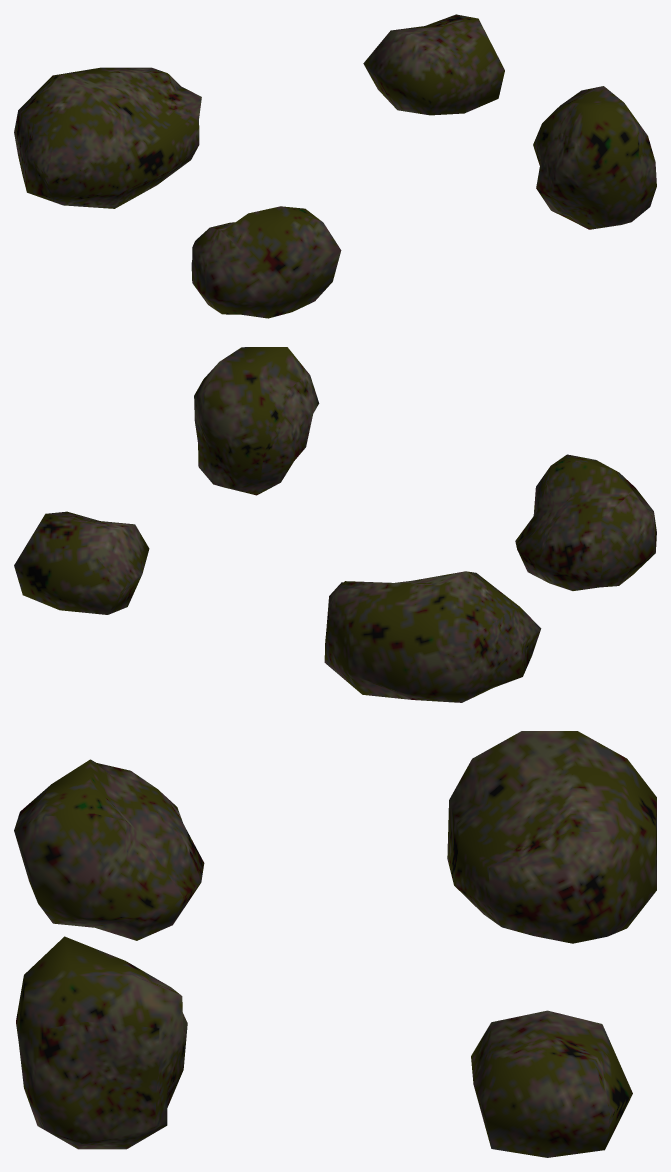
Rendered from pixel rocks.fbx.
3 renders of one model, top to bottom at view 1: azimuth 30°, elevation 25°; view 2: azimuth 150°, elevation 25°; view 3: azimuth 270°, elevation 25°, orthographic. The views are drawn at different scales.
Visible parts, largest first — view 1: Stone_1_Environment_0, Stone_4_Environment_0, Stone_2_Environment_0, Stone_3_Environment_0; view 2: Stone_1_Environment_0, Stone_4_Environment_0, Stone_2_Environment_0, Stone_3_Environment_0; view 3: Stone_1_Environment_0, Stone_4_Environment_0, Stone_2_Environment_0, Stone_3_Environment_0.
Part boxes in pixels (left/top/right/bottom): Stone_1_Environment_0: left=14, top=67, right=201, bottom=208; Stone_4_Environment_0: left=533, top=86, right=656, bottom=229; Stone_2_Environment_0: left=191, top=206, right=341, bottom=318; Stone_3_Environment_0: left=363, top=14, right=504, bottom=115; Stone_1_Environment_0: left=324, top=571, right=541, bottom=702; Stone_4_Environment_0: left=194, top=347, right=319, bottom=495; Stone_2_Environment_0: left=515, top=454, right=656, bottom=590; Stone_3_Environment_0: left=14, top=511, right=149, bottom=614; Stone_1_Environment_0: left=447, top=731, right=656, bottom=943; Stone_4_Environment_0: left=16, top=936, right=187, bottom=1149; Stone_2_Environment_0: left=14, top=759, right=204, bottom=940; Stone_3_Environment_0: left=471, top=1010, right=632, bottom=1157.
Size of the model in its own units: 15.97 by 4.37 by 13.41.
